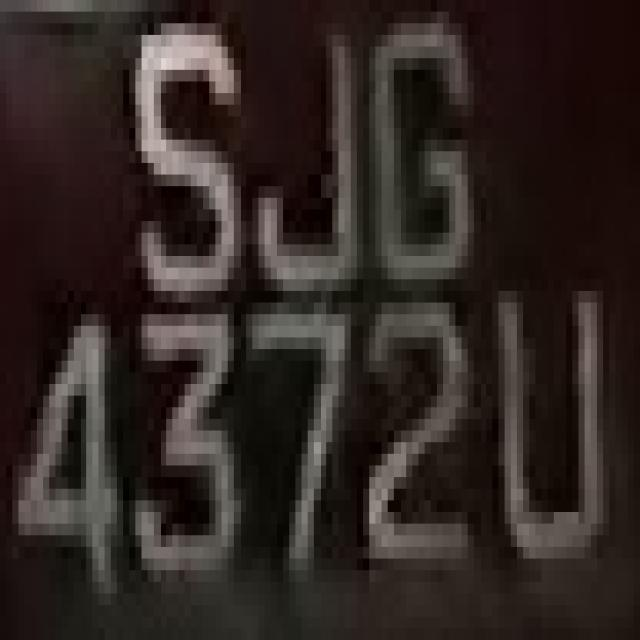2: (351, 279, 480, 605)
3: (111, 291, 240, 593)
4: (12, 291, 130, 628)
7: (234, 244, 351, 617)
G: (363, 23, 492, 314)
J: (240, 0, 369, 314)
S: (105, 11, 246, 302)
U: (480, 233, 622, 628)
